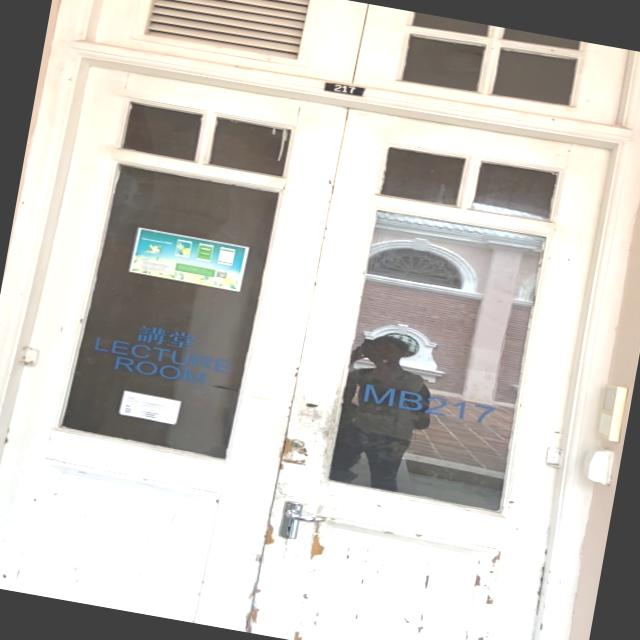room217: (319, 78, 369, 99)
room217Window: (353, 376, 502, 429)
